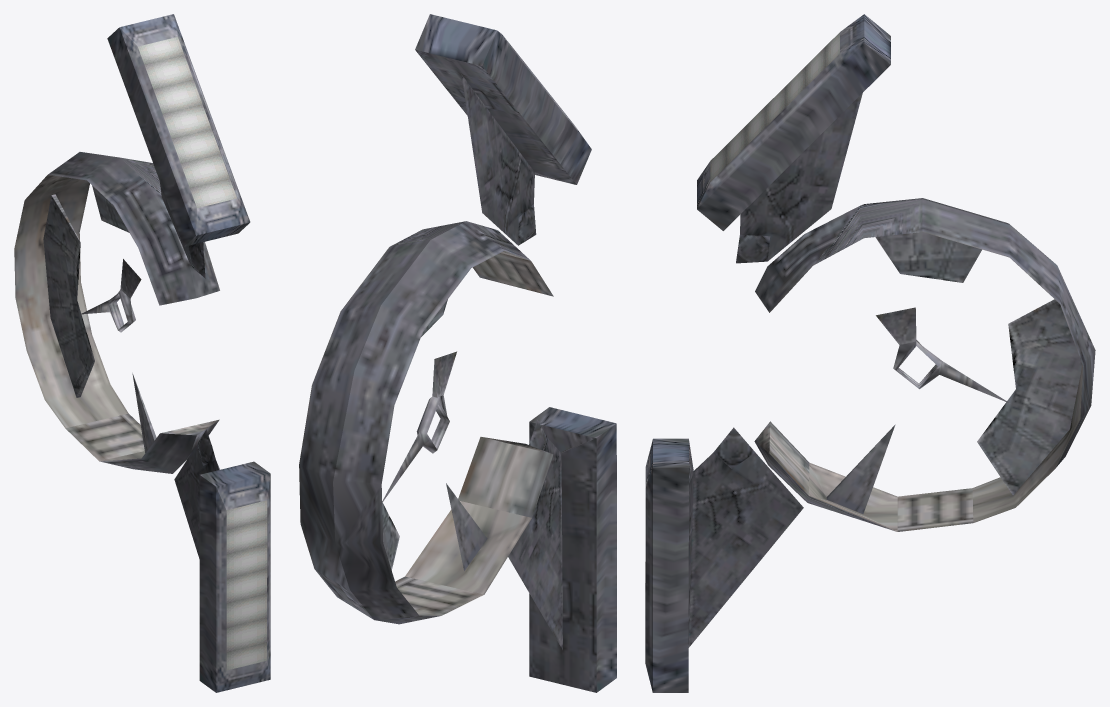
File: spc_beacon_hyperspace_l_receptor_l3.fbx
3 renders of one model, left to right at view 1: azimuth 30°, elevation 25°; view 2: azimuth 150°, elevation 25°; view 3: azimuth 270°, elevation 25°, orthographic. The views are drawn at different scales.
Visible parts, largest first — view 1: mesh_node; view 2: mesh_node; view 3: mesh_node.
Part boxes in pixels (x1,y1,x2,y2): mesh_node: (14, 14, 270, 692); mesh_node: (299, 14, 616, 692); mesh_node: (645, 14, 1095, 692).
Bounding box in the file's own units: 3.96 × 33.99 × 21.33.
